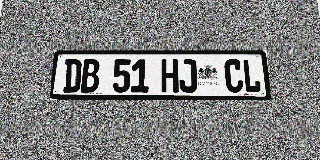1: (131, 60, 149, 92)
5: (113, 60, 131, 92)
B: (81, 60, 100, 92)
C: (224, 60, 243, 92)
D: (63, 60, 82, 92)
H: (161, 60, 179, 92)
J: (179, 60, 197, 92)
L: (242, 60, 261, 92)
